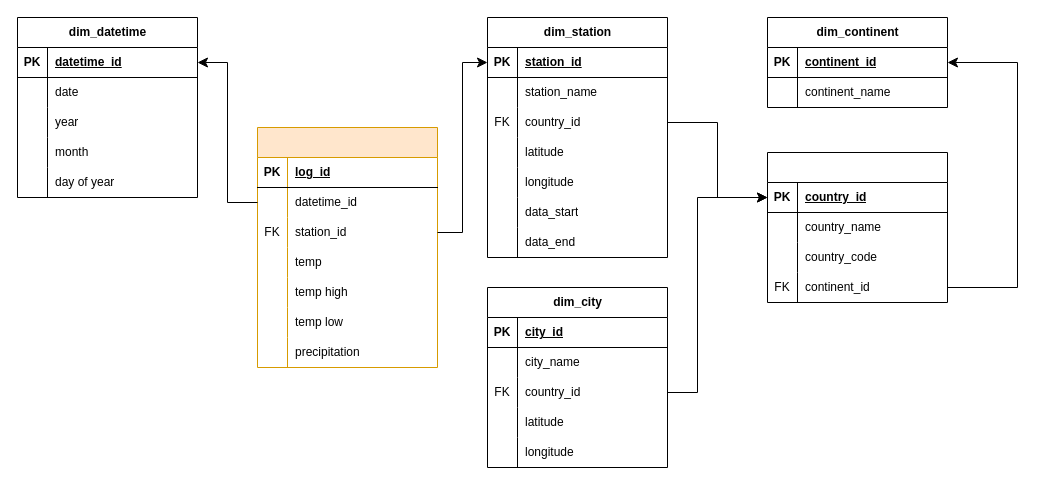
Image size: 1045x485. Some labels were removed from this diagram. Each missing label, with the box of its shape:
dim_country: (766, 152, 948, 302)
fact_weather: (256, 126, 438, 368)
